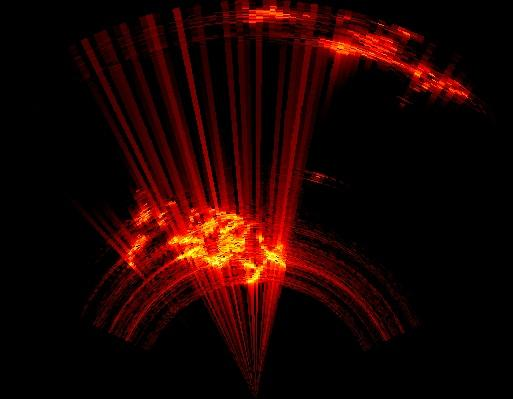shipwreck: (131, 207, 280, 281), (315, 29, 468, 93), (234, 8, 301, 25)
